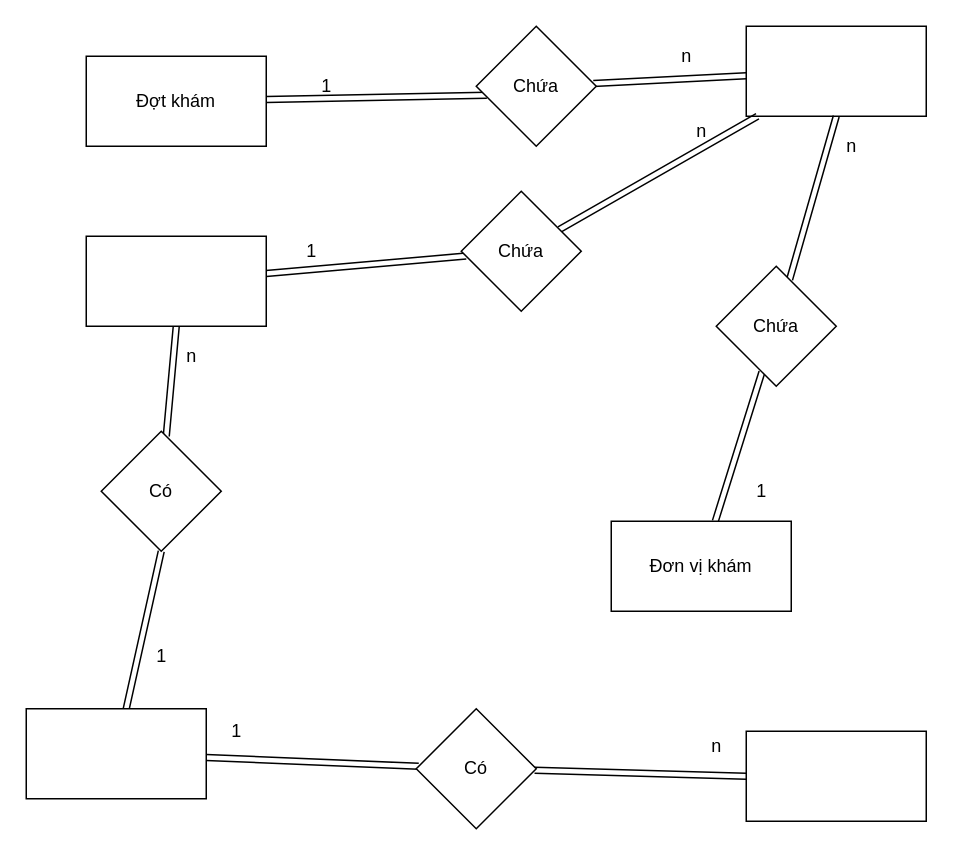
Some shapes in this 953 by 855 pixel diagram are drawn without their labels. Here are the shapes that lost their labels. From the top down, the box of each, then its label:
(745, 25, 926, 116): Hồ sơ khám
(85, 235, 266, 326): User
(25, 707, 206, 799): User_Role
(745, 730, 926, 821): Role
